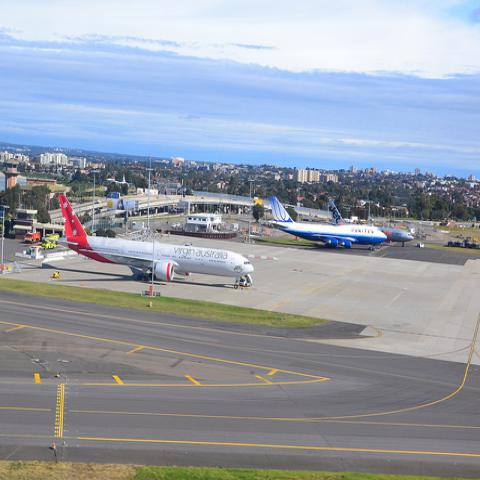truck: (42, 239, 56, 249), (417, 242, 425, 248)
